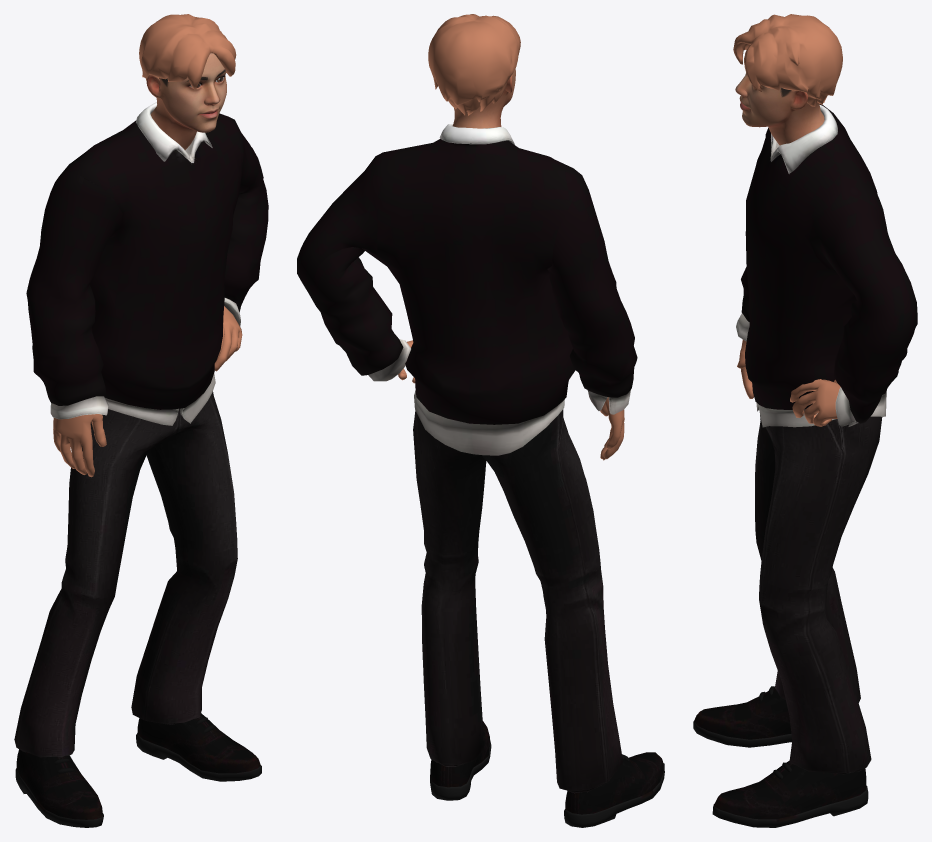
File: person_pose.glb
3 renders of one model, left to right at view 1: azimuth 30°, elevation 25°; view 2: azimuth 150°, elevation 25°; view 3: azimuth 270°, elevation 25°, orthographic. The views are drawn at different scales.
Parts seen in each view (by area): view 1: Wolf3D_Outfit_Top_Wolf3D_Outfit_Top, Wolf3D_Outfit_Bottom_Wolf3D_Outfit_Bottom, Wolf3D_Outfit_Footwear_Wolf3D_Outfit_Footwear, Wolf3D_Hair_Wolf3D_Hair, Wolf3D_Head_Wolf3D_Skin, Wolf3D_Body_Wolf3D_Body; view 2: Wolf3D_Outfit_Top_Wolf3D_Outfit_Top, Wolf3D_Outfit_Bottom_Wolf3D_Outfit_Bottom, Wolf3D_Hair_Wolf3D_Hair, Wolf3D_Outfit_Footwear_Wolf3D_Outfit_Footwear, Wolf3D_Head_Wolf3D_Skin, Wolf3D_Body_Wolf3D_Body; view 3: Wolf3D_Outfit_Top_Wolf3D_Outfit_Top, Wolf3D_Outfit_Bottom_Wolf3D_Outfit_Bottom, Wolf3D_Outfit_Footwear_Wolf3D_Outfit_Footwear, Wolf3D_Hair_Wolf3D_Hair, Wolf3D_Head_Wolf3D_Skin, Wolf3D_Body_Wolf3D_Body.
Part boxes in pixels (bbox=[...]): Wolf3D_Outfit_Top_Wolf3D_Outfit_Top: bbox=[26, 102, 268, 425]; Wolf3D_Outfit_Bottom_Wolf3D_Outfit_Bottom: bbox=[14, 391, 237, 757]; Wolf3D_Outfit_Footwear_Wolf3D_Outfit_Footwear: bbox=[15, 713, 261, 827]; Wolf3D_Hair_Wolf3D_Hair: bbox=[139, 14, 236, 89]; Wolf3D_Head_Wolf3D_Skin: bbox=[146, 53, 226, 149]; Wolf3D_Body_Wolf3D_Body: bbox=[53, 306, 242, 477]; Wolf3D_Outfit_Top_Wolf3D_Outfit_Top: bbox=[297, 124, 637, 455]; Wolf3D_Outfit_Bottom_Wolf3D_Outfit_Bottom: bbox=[413, 409, 623, 793]; Wolf3D_Hair_Wolf3D_Hair: bbox=[428, 14, 520, 115]; Wolf3D_Outfit_Footwear_Wolf3D_Outfit_Footwear: bbox=[430, 721, 664, 827]; Wolf3D_Head_Wolf3D_Skin: bbox=[452, 69, 515, 128]; Wolf3D_Body_Wolf3D_Body: bbox=[398, 340, 624, 460]; Wolf3D_Outfit_Top_Wolf3D_Outfit_Top: bbox=[736, 104, 917, 427]; Wolf3D_Outfit_Bottom_Wolf3D_Outfit_Bottom: bbox=[755, 415, 882, 774]; Wolf3D_Outfit_Footwear_Wolf3D_Outfit_Footwear: bbox=[693, 686, 868, 827]; Wolf3D_Hair_Wolf3D_Hair: bbox=[733, 14, 842, 106]; Wolf3D_Head_Wolf3D_Skin: bbox=[735, 45, 824, 145]; Wolf3D_Body_Wolf3D_Body: bbox=[737, 339, 840, 426].
Bounding box in the file's own units: 0.7274 × 1.82 × 0.4716.
Materials: 7 (7 with a texture image).
